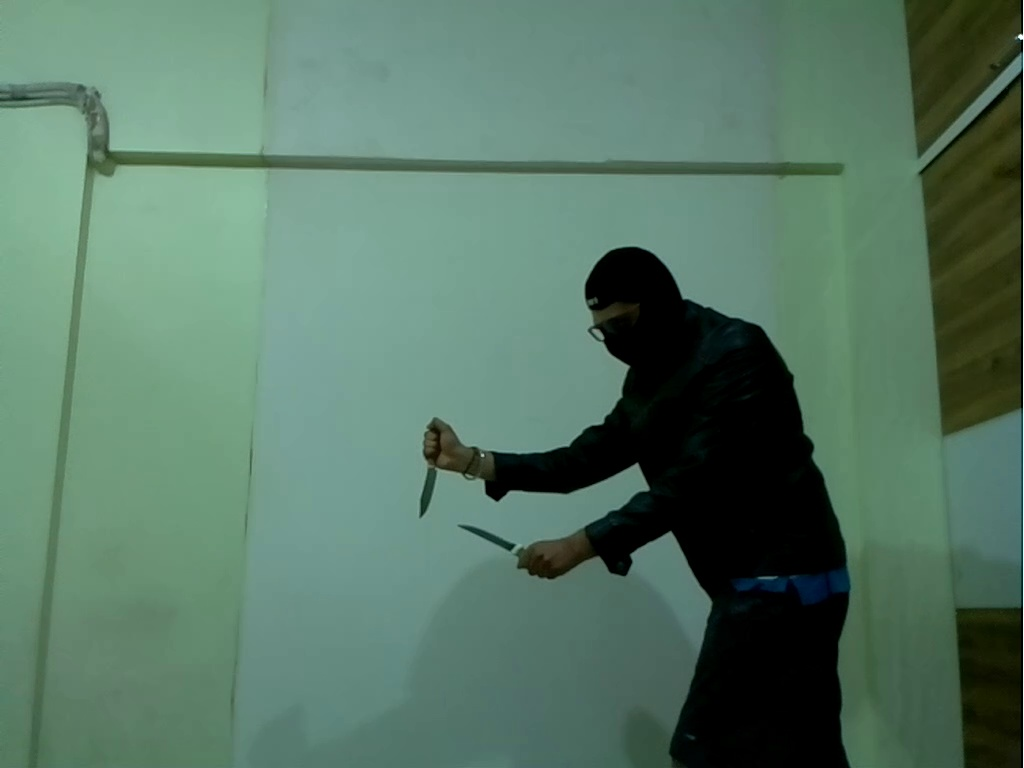knife: (457, 517, 528, 560), (413, 442, 443, 528)
